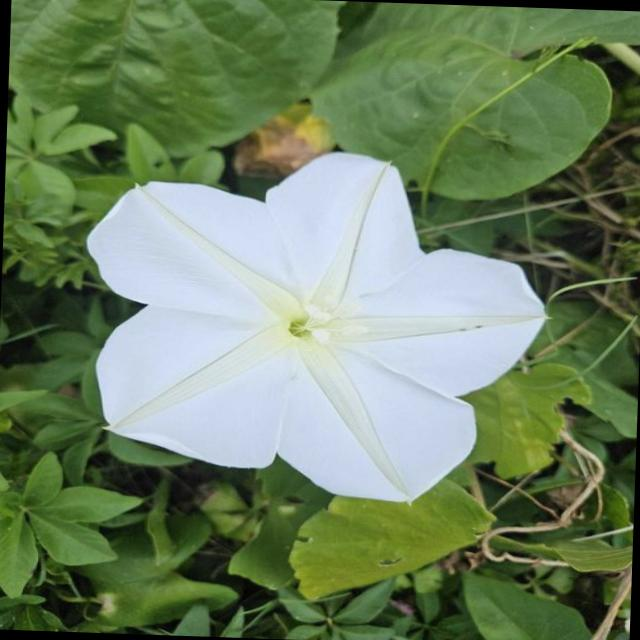ipomoea: (75, 141, 558, 511)
